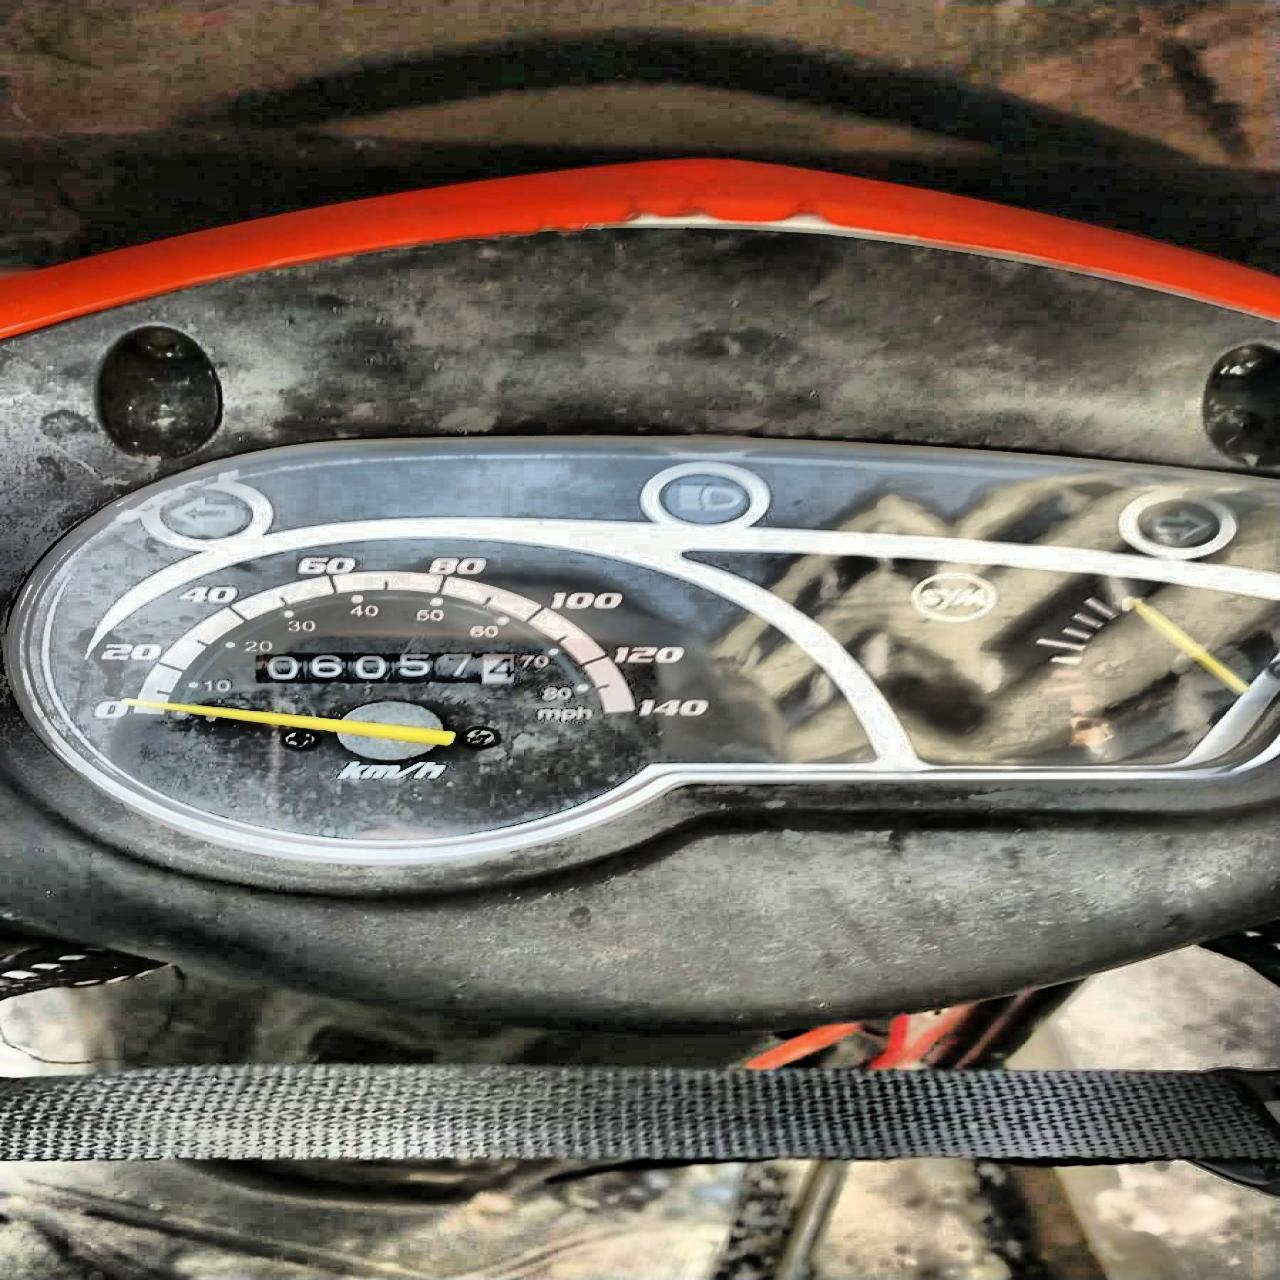0: (264, 653, 297, 680), (353, 655, 383, 679)
4: (483, 655, 516, 681)
5: (393, 652, 429, 679)
6: (306, 654, 342, 681)
7: (442, 651, 475, 679)
odometer: (252, 651, 520, 683)
